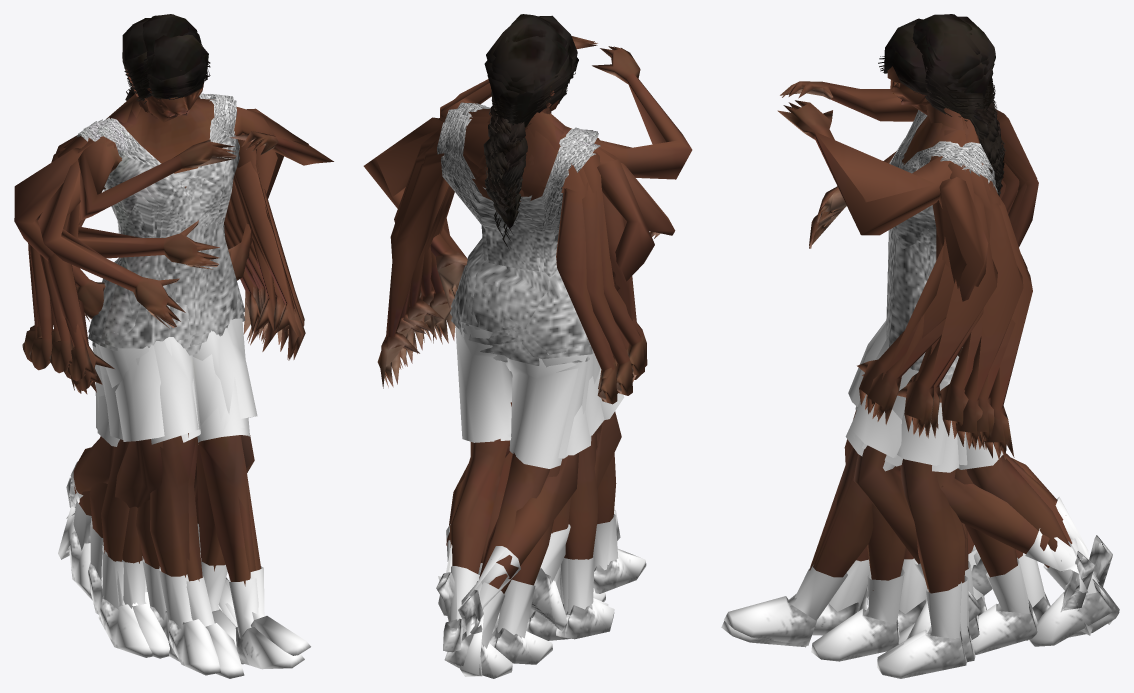
The picture shows the model from 3 angles, left to right: view 1: azimuth 30°, elevation 25°; view 2: azimuth 150°, elevation 25°; view 3: azimuth 270°, elevation 25°; orthographic projection. The views are drawn at different scales.
Parts seen in each view (by area): view 1: geh1, geh6, steh, hueften, geh4, geh0, handy, geh3, foto, reden, geh5, geh7 (+1 smaller); view 2: geh6, geh4, geh2, hueften, geh3, geh5, geh7, geh1, geh0, foto, steh, handy (+1 smaller); view 3: geh7, hueften, geh0, geh2, geh1, geh5, foto, geh4, geh3, geh6, steh, handy (+1 smaller).
Boxes of the visible parts, <box> form: geh1: <box>30,58,300,675</box>; geh6: <box>69,84,304,669</box>; steh: <box>48,14,277,658</box>; hueften: <box>14,99,289,657</box>; geh4: <box>39,18,267,607</box>; geh0: <box>50,33,304,588</box>; handy: <box>66,34,237,657</box>; geh3: <box>29,59,288,661</box>; foto: <box>78,67,333,220</box>; reden: <box>38,14,237,328</box>; geh5: <box>65,74,310,655</box>; geh7: <box>58,112,266,664</box>; geh6: <box>377,75,639,678</box>; geh4: <box>406,36,644,640</box>; geh2: <box>434,119,617,652</box>; hueften: <box>363,104,654,639</box>; geh3: <box>420,64,632,621</box>; geh5: <box>390,70,647,664</box>; geh7: <box>390,60,633,676</box>; geh1: <box>440,111,646,633</box>; geh0: <box>394,24,624,630</box>; foto: <box>440,36,692,179</box>; steh: <box>429,14,636,605</box>; handy: <box>468,15,626,637</box>; geh7: <box>811,62,1112,661</box>; hueften: <box>877,113,988,678</box>; geh0: <box>886,33,1019,643</box>; geh2: <box>812,95,1113,646</box>; geh1: <box>844,62,1037,654</box>; geh5: <box>724,58,1050,645</box>; foto: <box>777,70,993,235</box>; geh4: <box>850,16,1004,639</box>; geh3: <box>897,50,1094,635</box>; geh6: <box>721,67,1119,647</box>; steh: <box>890,14,993,662</box>; handy: <box>816,18,987,664</box>.
Bounding box in the file's own units: 0.8504 × 1.75 × 0.9916.
Materials: 1 (1 with a texture image).
